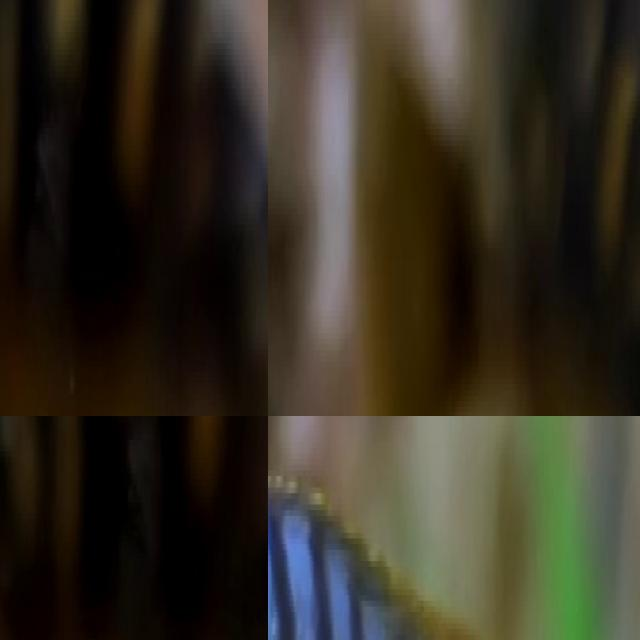fish: (341, 27, 640, 416), (0, 0, 268, 416), (0, 416, 268, 640)
